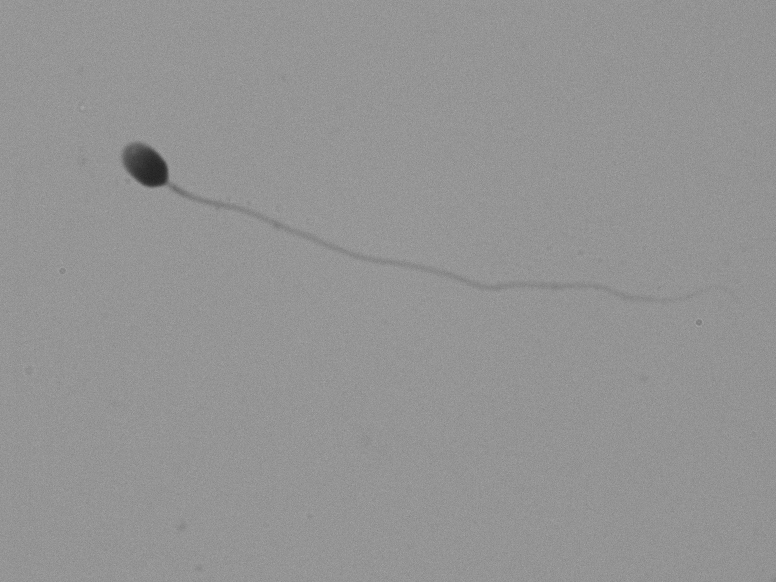Normal: (79, 79, 714, 406)
